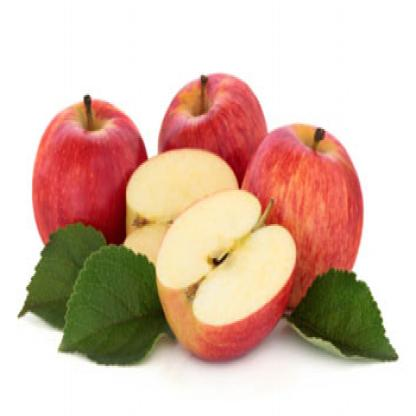apple: (238, 119, 368, 316), (29, 94, 152, 292), (157, 70, 277, 240)
